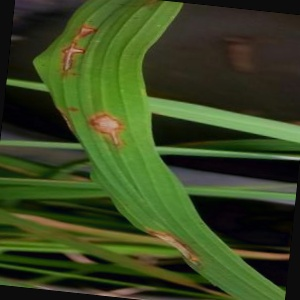Brown_Spot: (132, 226, 206, 276), (79, 108, 140, 156), (52, 32, 87, 74), (48, 101, 84, 141), (55, 17, 98, 41)
